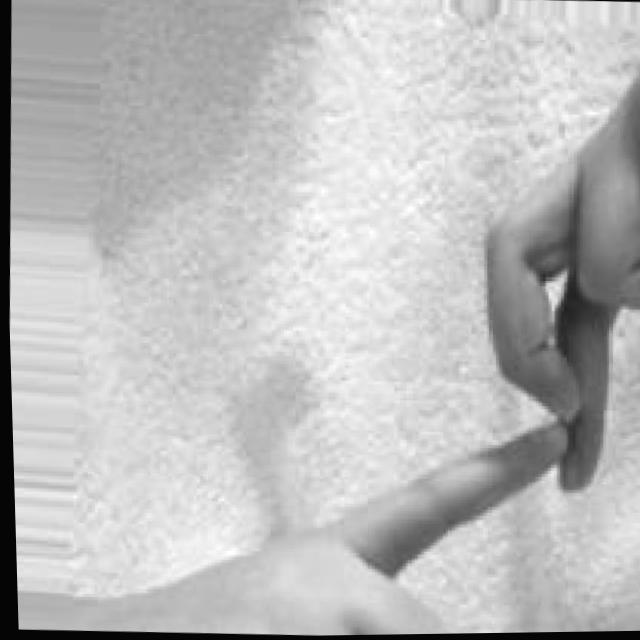R: (209, 15, 640, 637)
